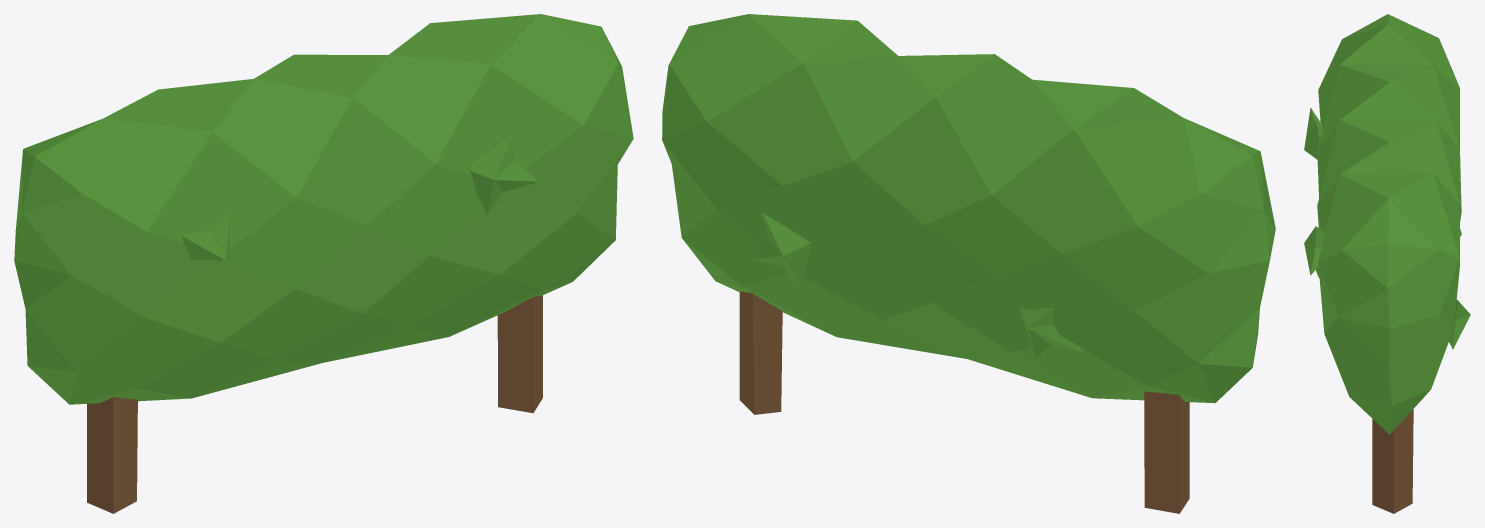
The model's file is fence-vineyard.glb.
The picture shows the model from 3 angles, left to right: view 1: azimuth 30°, elevation 25°; view 2: azimuth 150°, elevation 25°; view 3: azimuth 270°, elevation 25°; orthographic projection. The views are drawn at different scales.
Visible parts, largest first — view 1: fence-vineyard; view 2: fence-vineyard; view 3: fence-vineyard.
Boxes of the visible parts, box(x1,y1,x2,y2) form: fence-vineyard: box(14, 14, 633, 513); fence-vineyard: box(662, 14, 1275, 513); fence-vineyard: box(1304, 14, 1470, 513).
Size of the model in its own units: 3.02 by 1.85 by 0.8832.
1 material, 1 textured.
